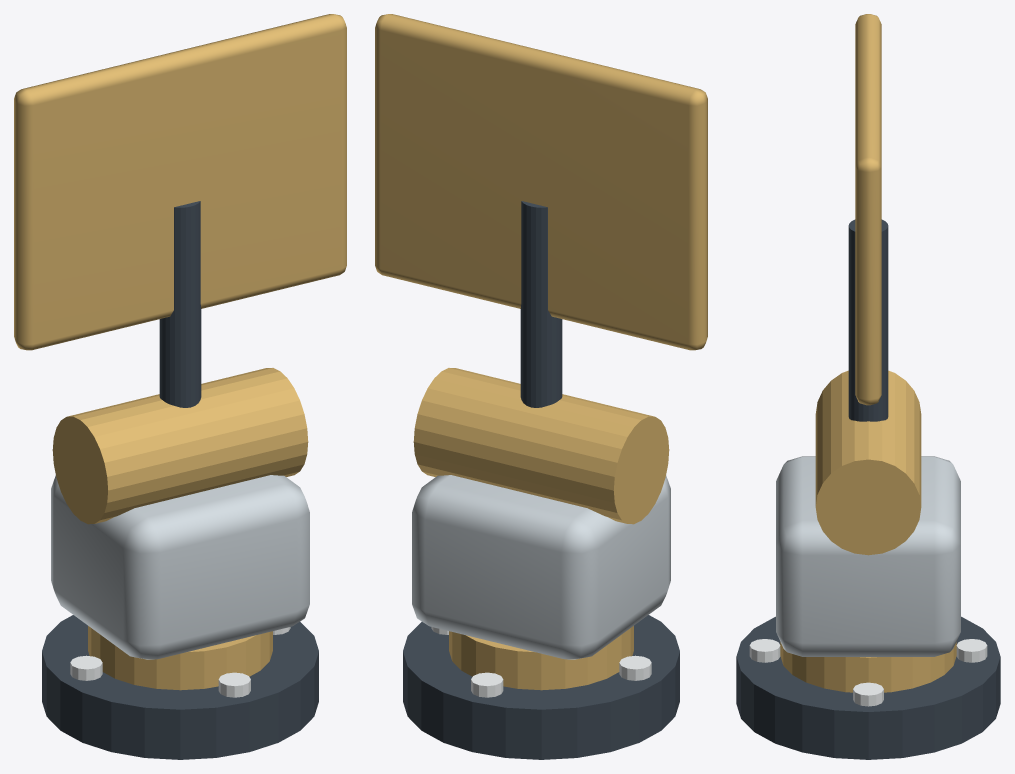
The model's file is deployable_antenna.glb.
3 renders of one model, left to right at view 1: azimuth 30°, elevation 25°; view 2: azimuth 150°, elevation 25°; view 3: azimuth 270°, elevation 25°, orthographic. The views are drawn at different scales.
Visible parts, largest first — view 1: Reflector_Frame, Electronics_Box, Hinge, Mount_Flange, Boom, Mount_Collar, Mount_Bolt_002, Mount_Bolt_003; view 2: Reflector_Frame, Electronics_Box, Hinge, Mount_Flange, Boom, Mount_Collar, Mount_Bolt_002, Mount_Bolt_001; view 3: Electronics_Box, Mount_Flange, Hinge, Reflector_Frame, Mount_Collar, Boom, Mount_Bolt_001, Mount_Bolt_003, Mount_Bolt.
Part boxes in pixels (x1,y1,x2,y2): Reflector_Frame: [14, 14, 346, 350]; Electronics_Box: [51, 475, 309, 659]; Hinge: [52, 368, 308, 524]; Mount_Flange: [42, 615, 318, 759]; Boom: [159, 201, 201, 407]; Mount_Collar: [88, 626, 272, 690]; Mount_Bolt_002: [70, 655, 102, 680]; Mount_Bolt_003: [218, 672, 250, 697]; Reflector_Frame: [375, 14, 707, 350]; Electronics_Box: [412, 475, 670, 659]; Hinge: [413, 368, 669, 524]; Mount_Flange: [403, 615, 679, 759]; Boom: [520, 201, 562, 407]; Mount_Collar: [449, 626, 633, 690]; Mount_Bolt_002: [619, 655, 651, 680]; Mount_Bolt_001: [471, 672, 503, 697]; Electronics_Box: [776, 456, 960, 656]; Mount_Flange: [736, 616, 1000, 759]; Hinge: [815, 370, 921, 555]; Reflector_Frame: [855, 14, 881, 405]; Mount_Collar: [780, 642, 956, 692]; Boom: [848, 219, 888, 421]; Mount_Bolt_001: [956, 639, 987, 662]; Mount_Bolt_003: [749, 639, 780, 662]; Mount_Bolt: [853, 682, 883, 706].
Size of the model in its own units: 0.82 by 1.55 by 0.6.
